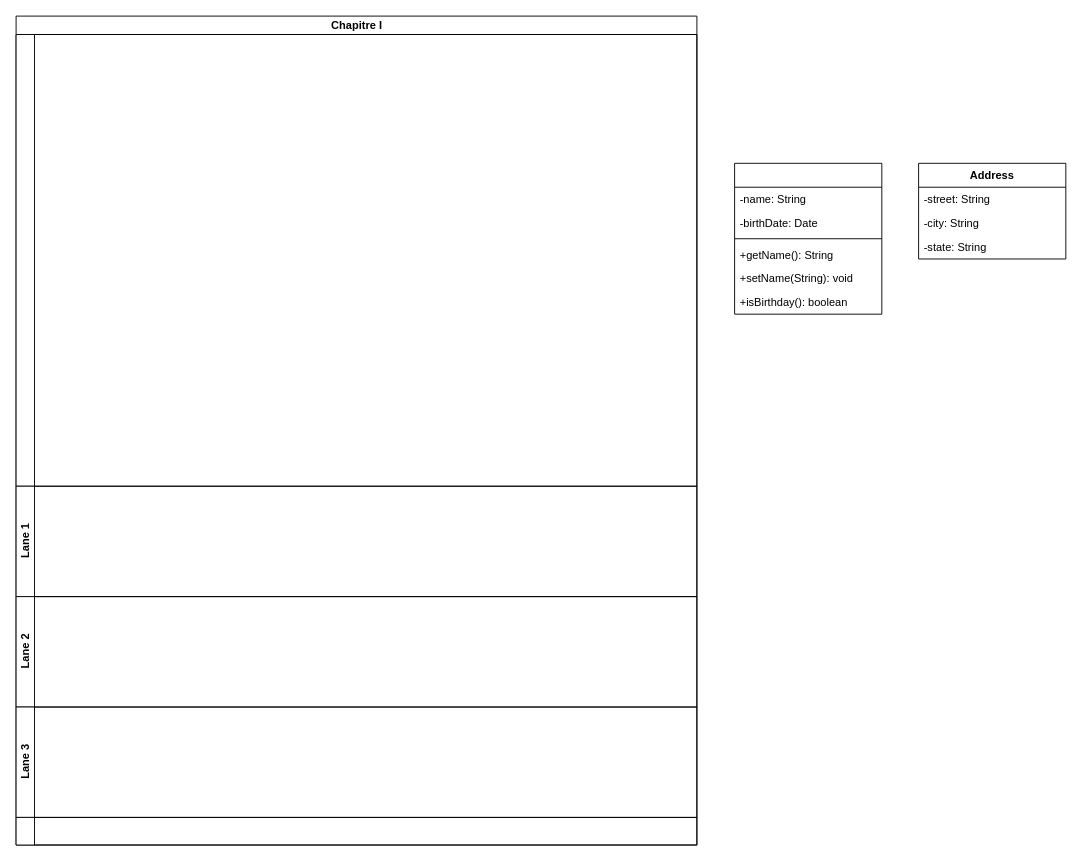
This 1082x864 diagram has some shape labels left out. Each missing label, with the box of its shape:
BILAN: (15, 816, 697, 845)
Person: (734, 162, 882, 314)
